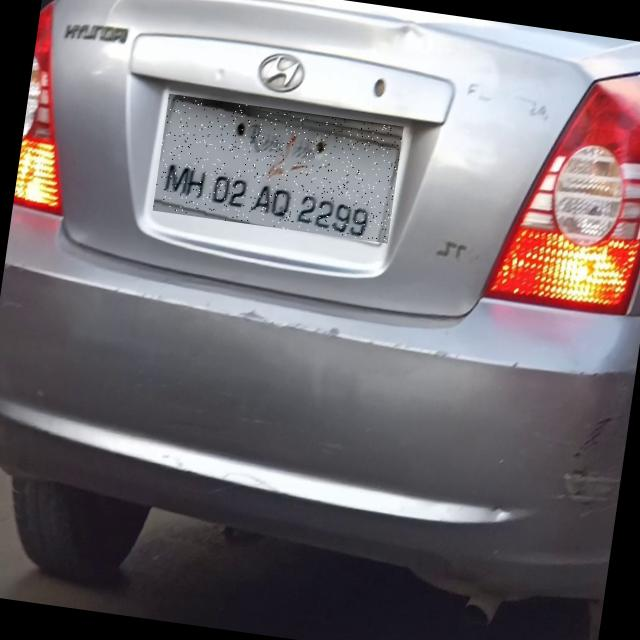Plate: (154, 95, 405, 245)
